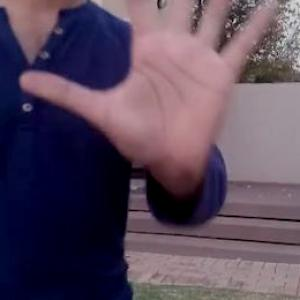follow_hand: (18, 0, 282, 183)
